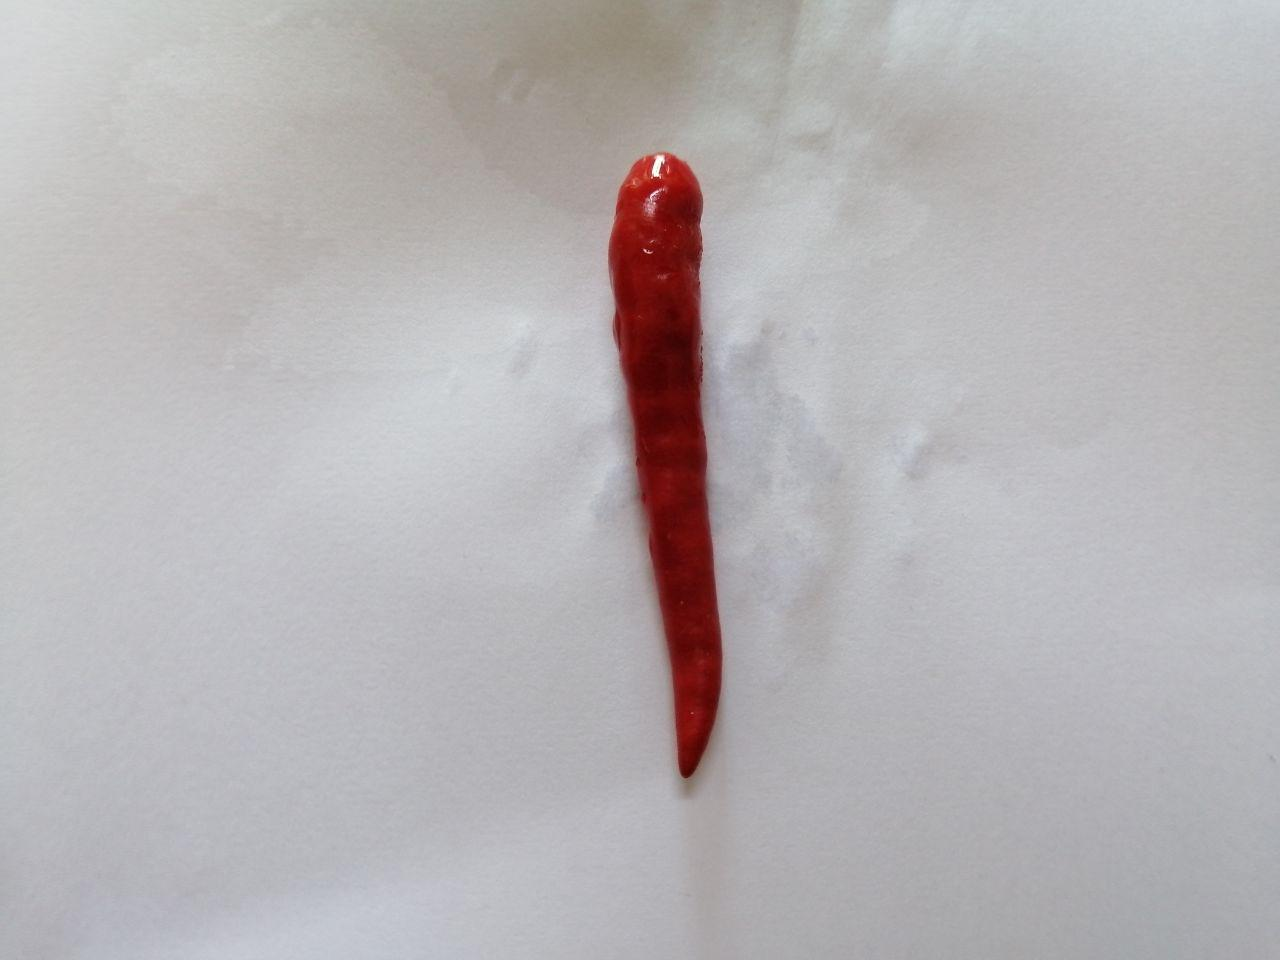lada merah: (584, 136, 768, 787)
